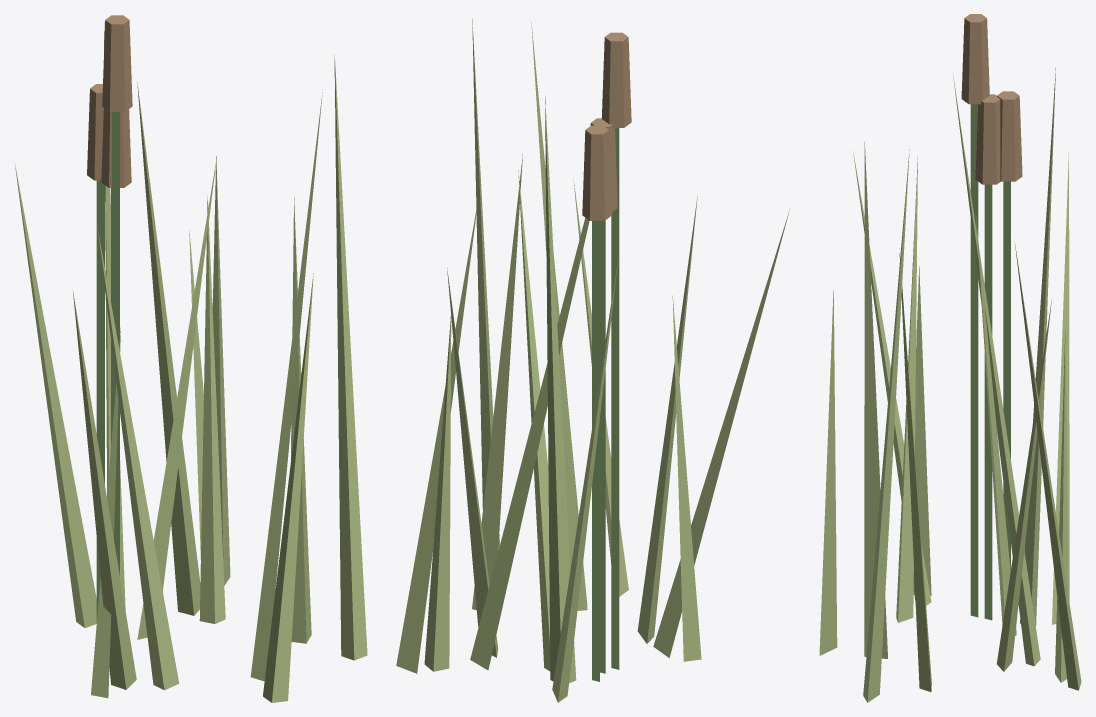
File: junco_1.fbx
3 views of the same model, side by side, from view 1: azimuth 30°, elevation 25°; view 2: azimuth 150°, elevation 25°; view 3: azimuth 270°, elevation 25° (orthographic). The views are drawn at different scales.
Visible parts, largest first — view 1: junco_1~Folha 1@reed, junco_1~Folha 7@reed, junco_1~Folha 12@reed, junco_1~Folha 2@reed, junco_1~Folha 9@reed, junco_1~Folha 3@reed, junco_1~Folha 0@reed, junco_1~Folha 6@reed, junco_1~Folha 11@reed, junco_1~Folha 13@reed, junco_1~Folha 8@reed, junco_1~Haste 1@stem (+7 smaller); view 2: junco_1~Folha 4@reed, junco_1~Folha 12@reed, junco_1~Folha 5@reed, junco_1~Folha 8@reed, junco_1~Folha 13@reed, junco_1~Haste 2@stem, junco_1~Folha 11@reed, junco_1~Folha 0@reed, junco_1~Folha 7@reed, junco_1~Folha 2@reed, junco_1~Folha 10@reed, junco_1~Folha 1@reed (+8 smaller); view 3: junco_1~Folha 6@reed, junco_1~Folha 1@reed, junco_1~Haste 2@stem, junco_1~Folha 12@reed, junco_1~Folha 7@reed, junco_1~Folha 4@reed, junco_1~Folha 3@reed, junco_1~Folha 8@reed, junco_1~Folha 13@reed, junco_1~Haste 0@stem, junco_1~Folha 9@reed, junco_1~Folha 11@reed (+8 smaller).
Part boxes in pixels (x1=…): junco_1~Folha 1@reed: x1=334, y1=54, x2=367, y2=660; junco_1~Folha 7@reed: x1=97, y1=225, x2=179, y2=690; junco_1~Folha 12@reed: x1=137, y1=82, x2=200, y2=615; junco_1~Folha 2@reed: x1=14, y1=163, x2=96, y2=627; junco_1~Folha 9@reed: x1=199, y1=195, x2=225, y2=623; junco_1~Folha 3@reed: x1=263, y1=273, x2=313, y2=702; junco_1~Folha 0@reed: x1=72, y1=289, x2=136, y2=689; junco_1~Folha 6@reed: x1=250, y1=89, x2=322, y2=681; junco_1~Folha 11@reed: x1=137, y1=157, x2=216, y2=639; junco_1~Folha 13@reed: x1=291, y1=197, x2=311, y2=643; junco_1~Folha 8@reed: x1=212, y1=156, x2=230, y2=585; junco_1~Haste 1@stem: x1=96, y1=180, x2=104, y2=621; junco_1~Folha 4@reed: x1=545, y1=95, x2=576, y2=683; junco_1~Folha 12@reed: x1=470, y1=218, x2=589, y2=670; junco_1~Folha 5@reed: x1=424, y1=312, x2=451, y2=671; junco_1~Folha 8@reed: x1=396, y1=200, x2=478, y2=673; junco_1~Folha 13@reed: x1=472, y1=154, x2=522, y2=610; junco_1~Haste 2@stem: x1=611, y1=128, x2=619, y2=669; junco_1~Folha 11@reed: x1=518, y1=170, x2=550, y2=671; junco_1~Folha 0@reed: x1=653, y1=209, x2=789, y2=657; junco_1~Folha 7@reed: x1=637, y1=196, x2=697, y2=643; junco_1~Folha 2@reed: x1=552, y1=251, x2=619, y2=702; junco_1~Folha 10@reed: x1=672, y1=295, x2=701, y2=661; junco_1~Folha 1@reed: x1=472, y1=19, x2=499, y2=550; junco_1~Folha 6@reed: x1=864, y1=141, x2=887, y2=658; junco_1~Folha 1@reed: x1=863, y1=149, x2=909, y2=702; junco_1~Haste 2@stem: x1=970, y1=104, x2=978, y2=617; junco_1~Folha 12@reed: x1=952, y1=72, x2=1040, y2=666; junco_1~Folha 7@reed: x1=896, y1=156, x2=917, y2=622; junco_1~Folha 4@reed: x1=1020, y1=67, x2=1055, y2=626; junco_1~Folha 3@reed: x1=819, y1=289, x2=837, y2=655; junco_1~Folha 8@reed: x1=1014, y1=241, x2=1081, y2=690; junco_1~Folha 13@reed: x1=899, y1=248, x2=931, y2=691; junco_1~Haste 0@stem: x1=984, y1=184, x2=992, y2=620; junco_1~Folha 9@reed: x1=996, y1=299, x2=1051, y2=671; junco_1~Folha 11@reed: x1=975, y1=214, x2=1016, y2=635.
Bounding box in the file's own units: 0.8046 × 1.63 × 0.6459.
